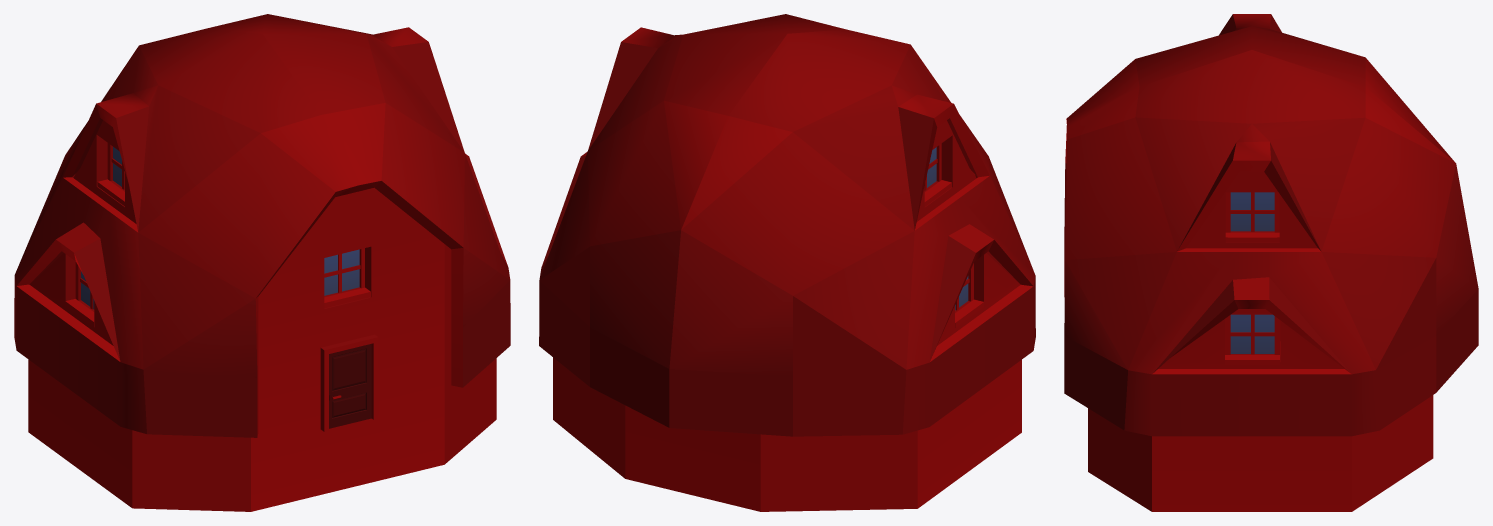
The model's file is buildings-residential-geodesichome_v3.fbx.
The picture shows the model from 3 angles, left to right: view 1: azimuth 30°, elevation 25°; view 2: azimuth 150°, elevation 25°; view 3: azimuth 270°, elevation 25°; orthographic projection. The views are drawn at different scales.
Parts seen in each view (by area): view 1: GeodesicHome_v3_base, GeodesicHome_v3_windowRefl; view 2: GeodesicHome_v3_base; view 3: GeodesicHome_v3_base, GeodesicHome_v3_windowRefl.
Part boxes in pixels (x1=…): GeodesicHome_v3_base: x1=14, y1=14, x2=510, y2=511; GeodesicHome_v3_windowRefl: x1=81, y1=147, x2=359, y2=309; GeodesicHome_v3_base: x1=539, y1=14, x2=1035, y2=511; GeodesicHome_v3_base: x1=1064, y1=14, x2=1478, y2=511; GeodesicHome_v3_windowRefl: x1=1230, y1=192, x2=1274, y2=353.
Bounding box in the file's own units: 12.3 × 11.67 × 11.63.
